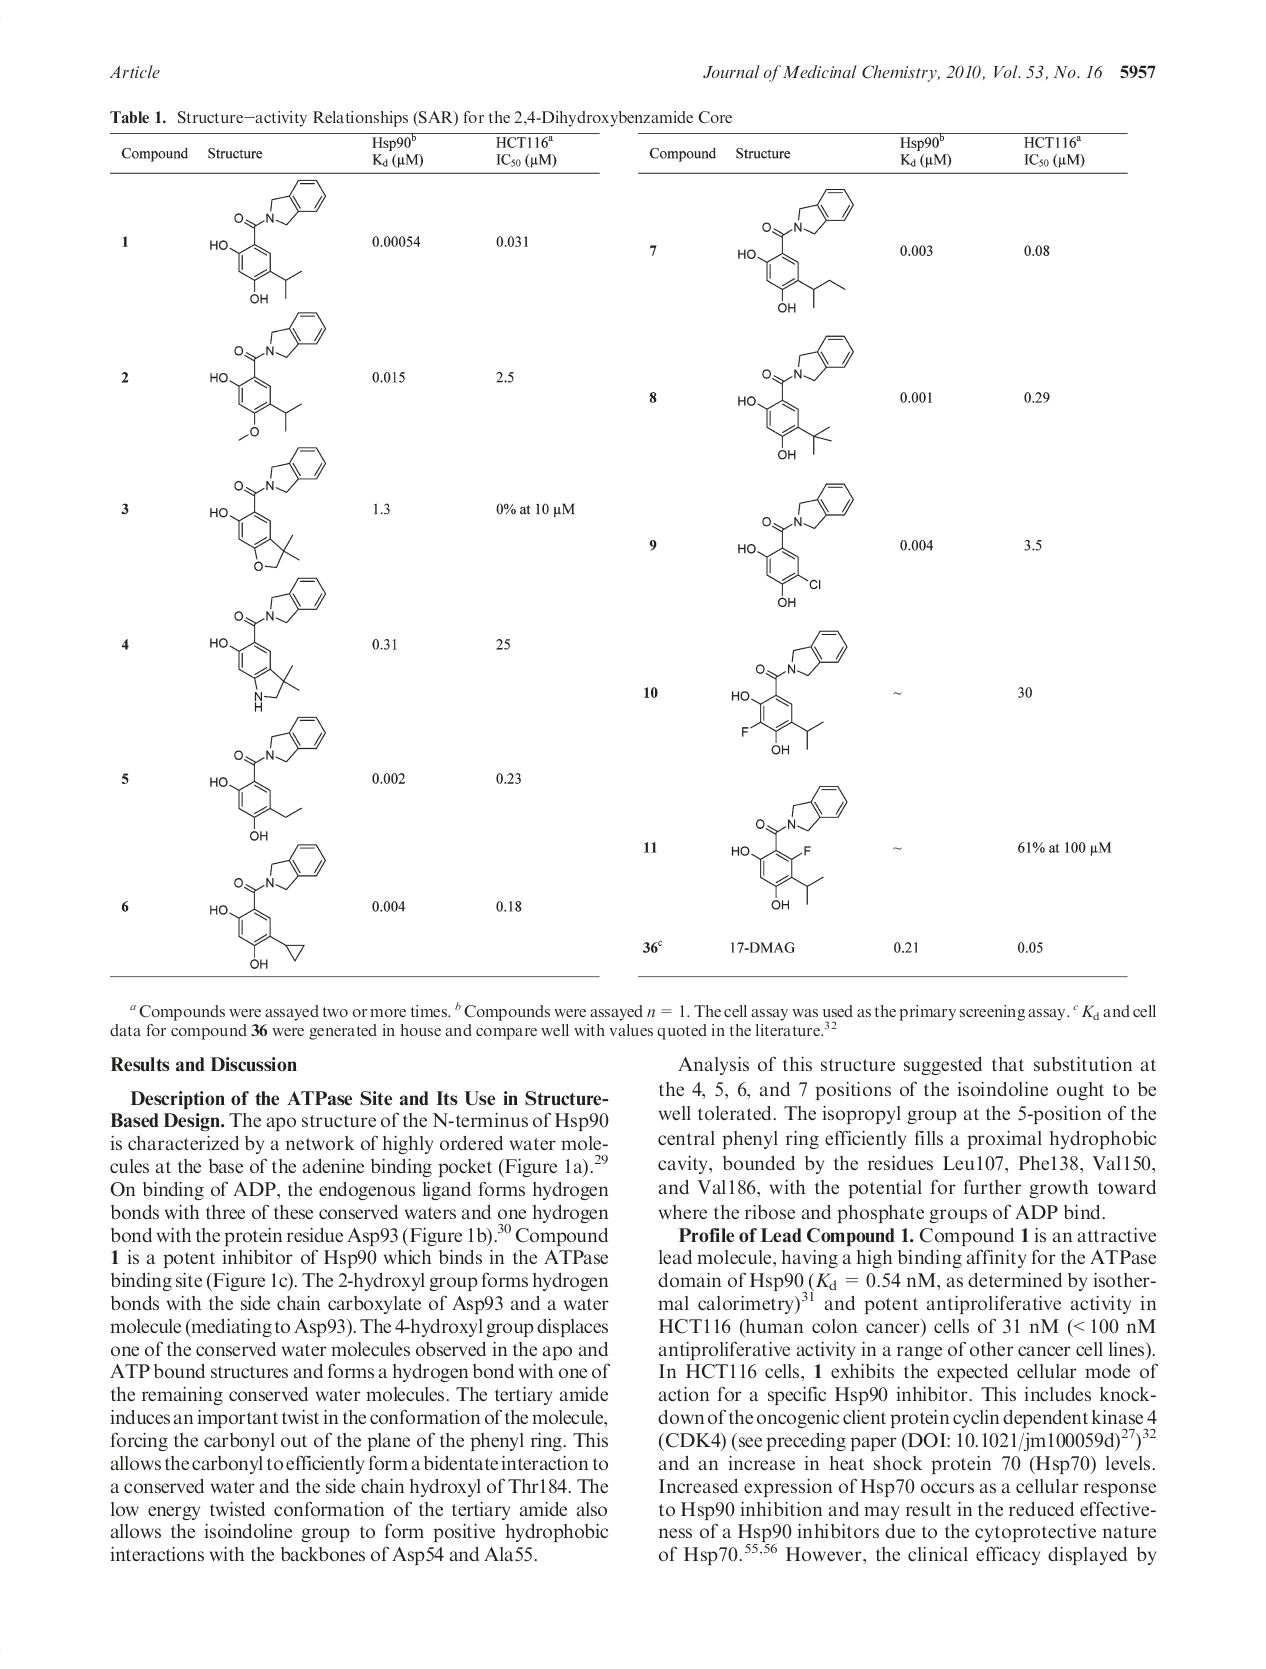exist_molecular: (197, 575, 330, 711), (719, 781, 852, 916), (731, 479, 862, 612), (209, 307, 334, 444), (199, 714, 330, 844), (730, 184, 860, 314), (725, 626, 852, 758), (737, 330, 858, 465), (202, 446, 327, 575), (199, 846, 324, 972), (206, 177, 328, 305)
